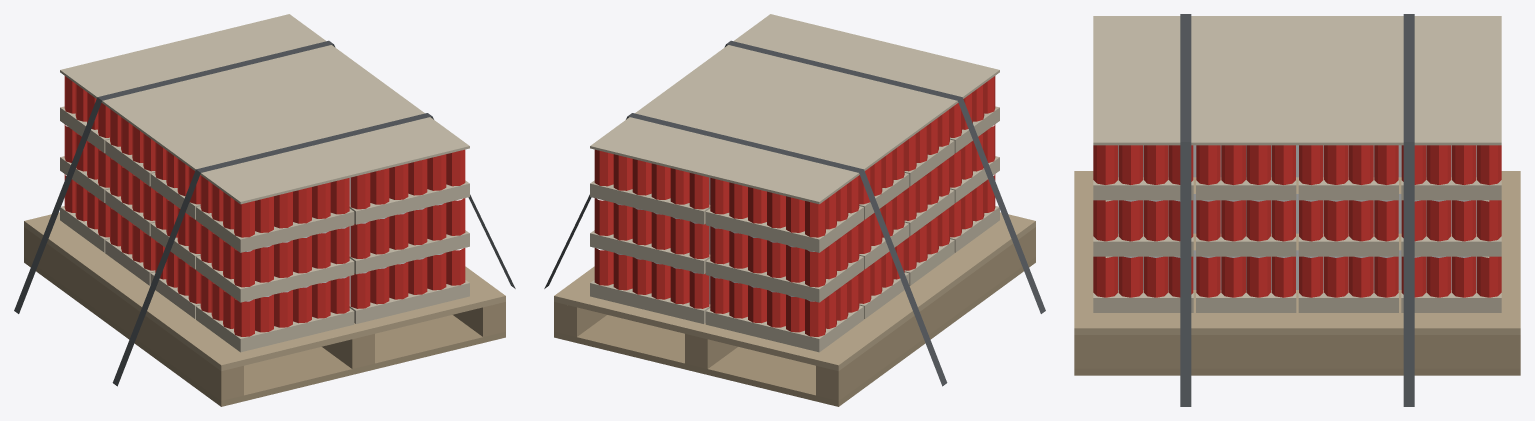
Rendered from soft-drink-pallet.glb.
3 renders of one model, left to right at view 1: azimuth 30°, elevation 25°; view 2: azimuth 150°, elevation 25°; view 3: azimuth 270°, elevation 25°, orthographic. The views are drawn at different scales.
Visible parts, largest first — view 1: SoftDrinkPallet_SodaCase, SoftDrinkPallet_SodaCan, SoftDrinkPallet_PalletWood, SoftDrinkPallet_Strap; view 2: SoftDrinkPallet_SodaCase, SoftDrinkPallet_SodaCan, SoftDrinkPallet_PalletWood, SoftDrinkPallet_Strap; view 3: SoftDrinkPallet_SodaCase, SoftDrinkPallet_SodaCan, SoftDrinkPallet_PalletWood, SoftDrinkPallet_Strap, SoftDrinkPallet_SodaCanTop.
Boxes of the visible parts, bbox=[...] form: SoftDrinkPallet_SodaCase: bbox=[60, 14, 469, 352]; SoftDrinkPallet_SodaCan: bbox=[64, 76, 465, 336]; SoftDrinkPallet_PalletWood: bbox=[24, 212, 505, 406]; SoftDrinkPallet_Strap: bbox=[14, 40, 515, 386]; SoftDrinkPallet_SodaCase: bbox=[590, 14, 999, 352]; SoftDrinkPallet_SodaCan: bbox=[594, 76, 995, 336]; SoftDrinkPallet_PalletWood: bbox=[554, 212, 1035, 406]; SoftDrinkPallet_Strap: bbox=[544, 40, 1045, 386]; SoftDrinkPallet_SodaCase: bbox=[1093, 16, 1501, 312]; SoftDrinkPallet_SodaCan: bbox=[1093, 145, 1501, 297]; SoftDrinkPallet_PalletWood: bbox=[1074, 171, 1520, 375]; SoftDrinkPallet_Strap: bbox=[1180, 14, 1414, 406]; SoftDrinkPallet_SodaCanTop: bbox=[1112, 145, 1482, 289].
Bounding box in the file's own units: 1.4 × 0.649 × 1.2.
